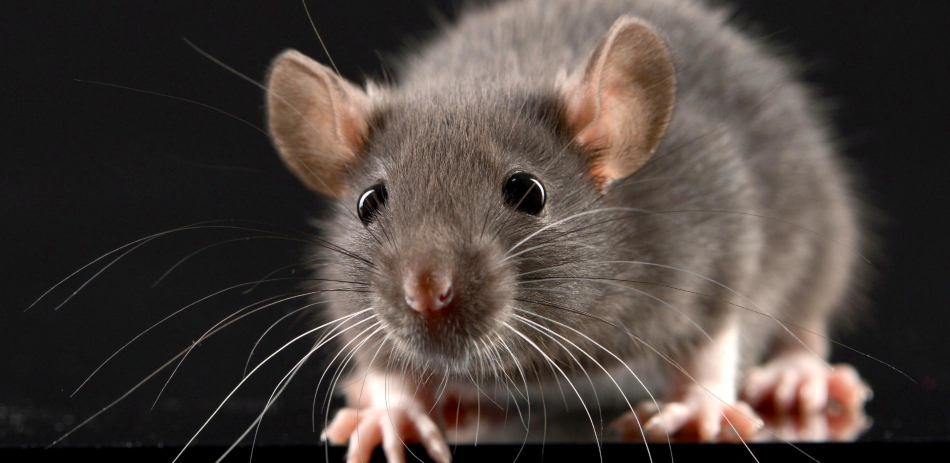rat: (247, 6, 725, 463)
